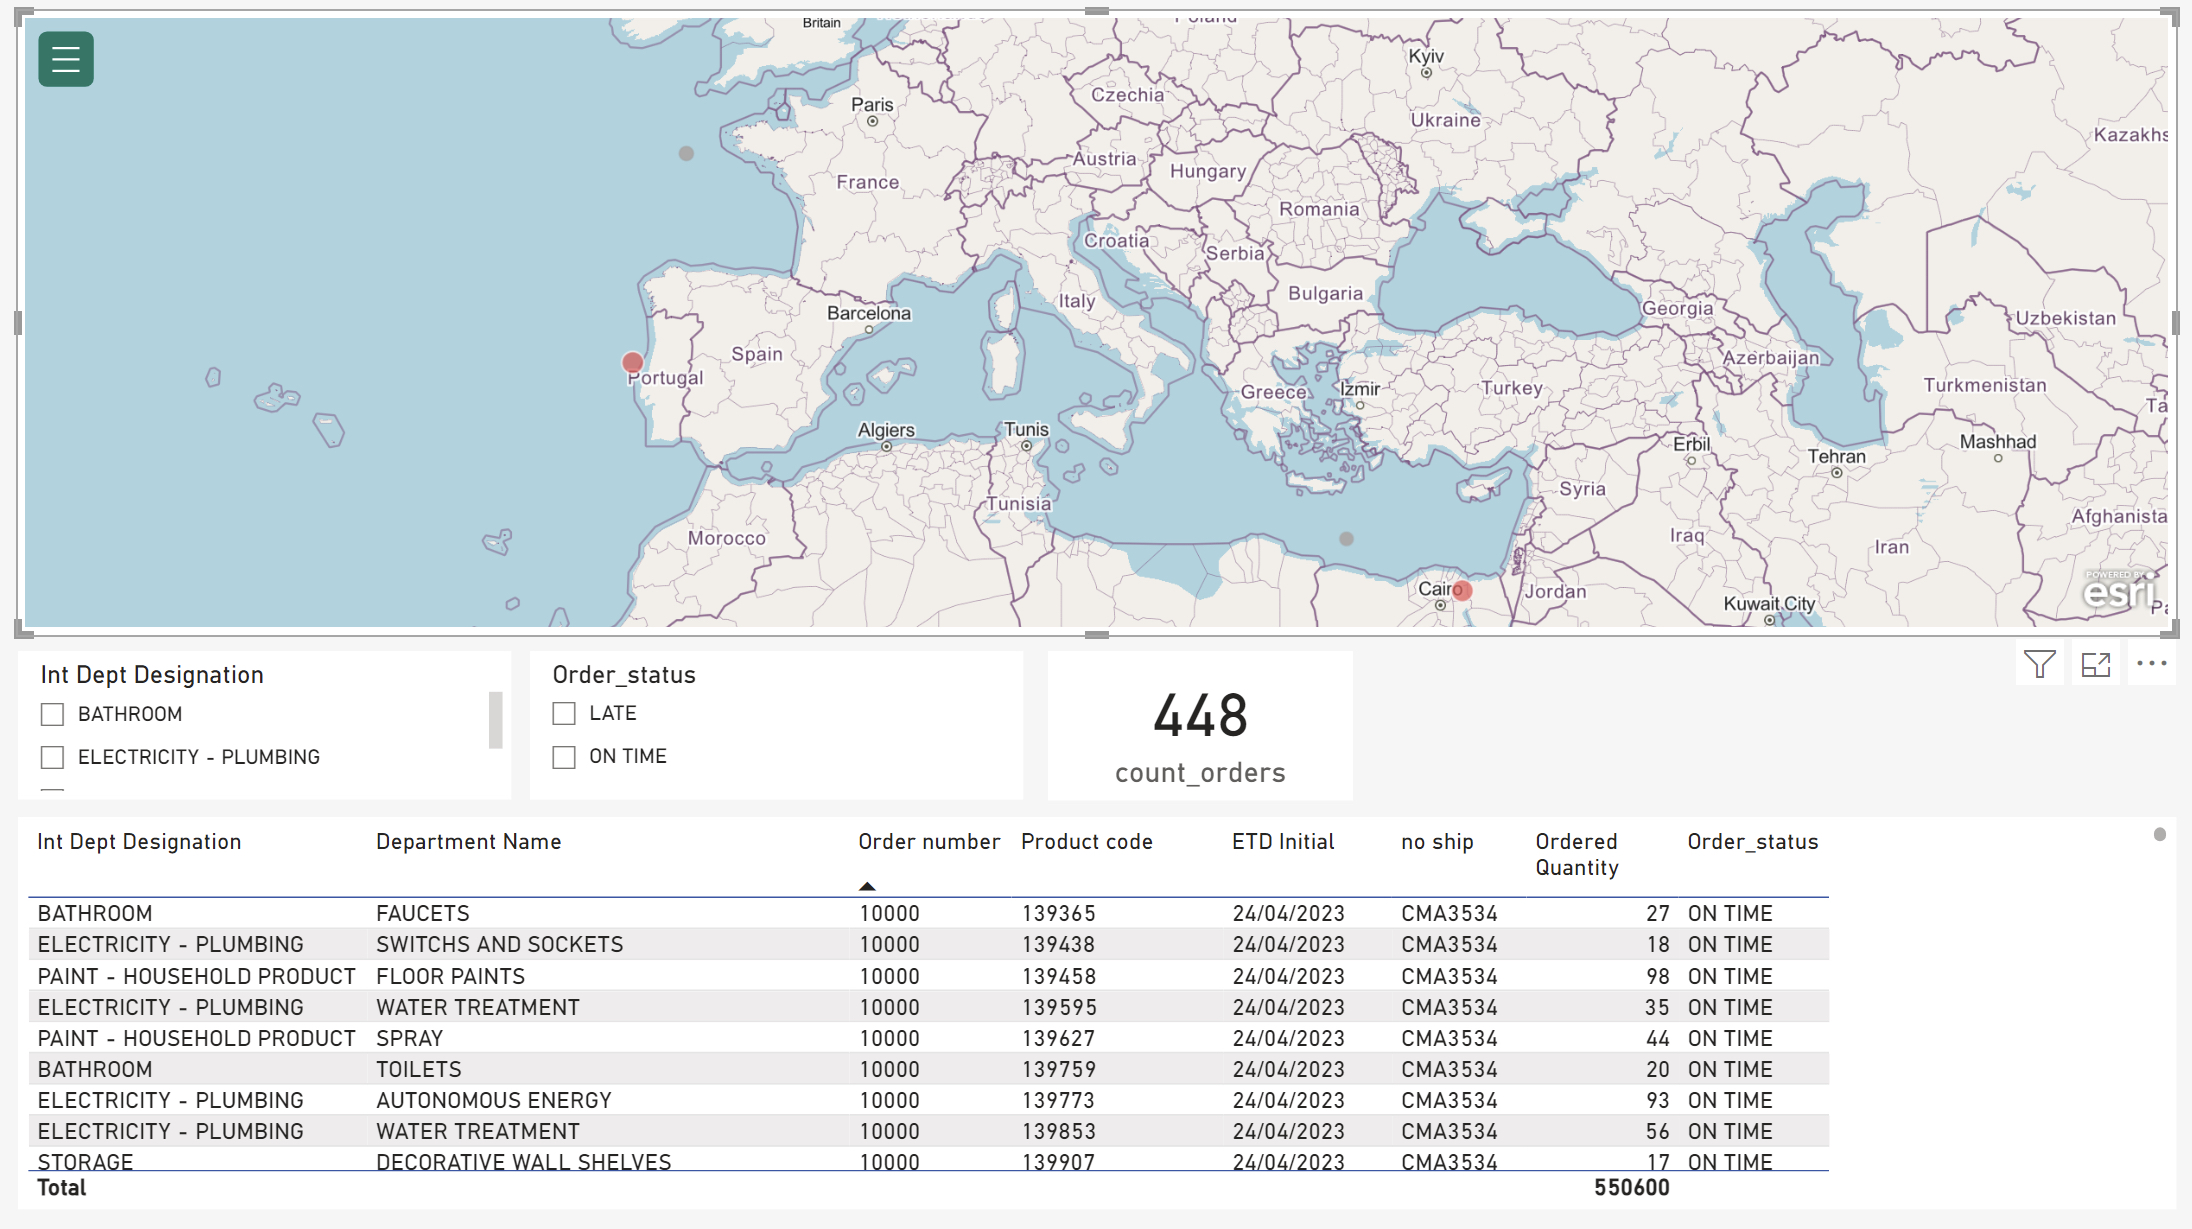

The page's visual inventory and layout, read from the dashboard file:
{"tool":"powerbi","page":{"name":"orders follow up","canvas":[1280,720],"ordinal":1},"visuals":[{"type":"esriVisual","fields":{"Latitude":["orders_data.latitude"],"Longitude":["orders_data.longitude"],"Color":["Measures (2).status_ship_color"]},"box":[15.4,12.1,1250.2,362.7],"z":0},{"type":"tableEx","fields":{"Values":["international_range.Int Dept Designation","international_range.Department Name","orders_data.Order number","products_data.GTIN13","orders_data.ETD Initial","orders_data.no ship","Sum(orders_data.Ordered Quantity)","orders_data.order_status"]},"box":[16.5,479.6,1249.1,227.1],"z":1000},{"type":"slicer","fields":{"Values":["international_range.Int Dept Designation"]},"box":[16.5,382.6,285.5,86],"z":2000},{"type":"slicer","fields":{"Values":["orders_data.order_status"]},"box":[312,382.6,285.5,86],"z":3000},{"type":"card","fields":{"Values":["Measures (2).count_orders"]},"box":[612.3,382.8,176.6,86.4],"z":4000}]}

Visuals, with their boxes in screenshot pixels (x1, y1, x2, y2), scaled from the page's 1280x720 canvas onto the 2192x1229 screenshot:
esriVisual - orders_data.latitude x orders_data.longitude: 26,21,2167,640
tableEx - international_range.Int Dept Designation x international_range.Department Name: 28,819,2167,1206
slicer - international_range.Int Dept Designation: 28,653,517,800
slicer - orders_data.order_status: 534,653,1023,800
card - Measures (2).count_orders: 1049,653,1351,801
